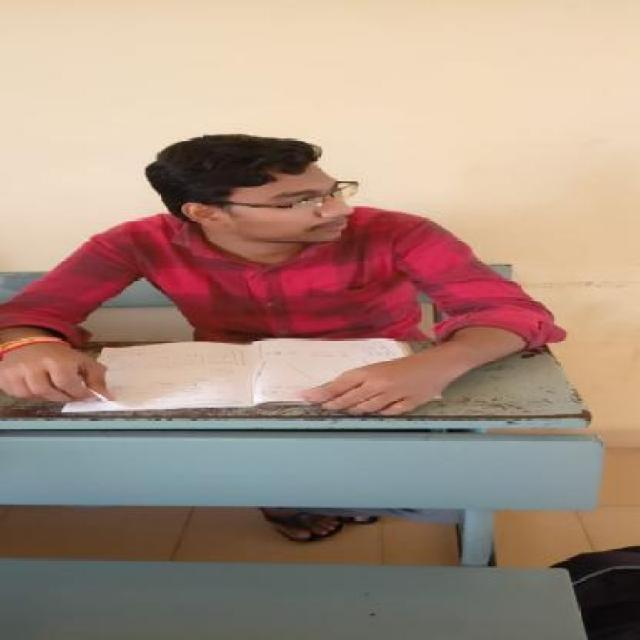cheating: (0, 115, 593, 426)
